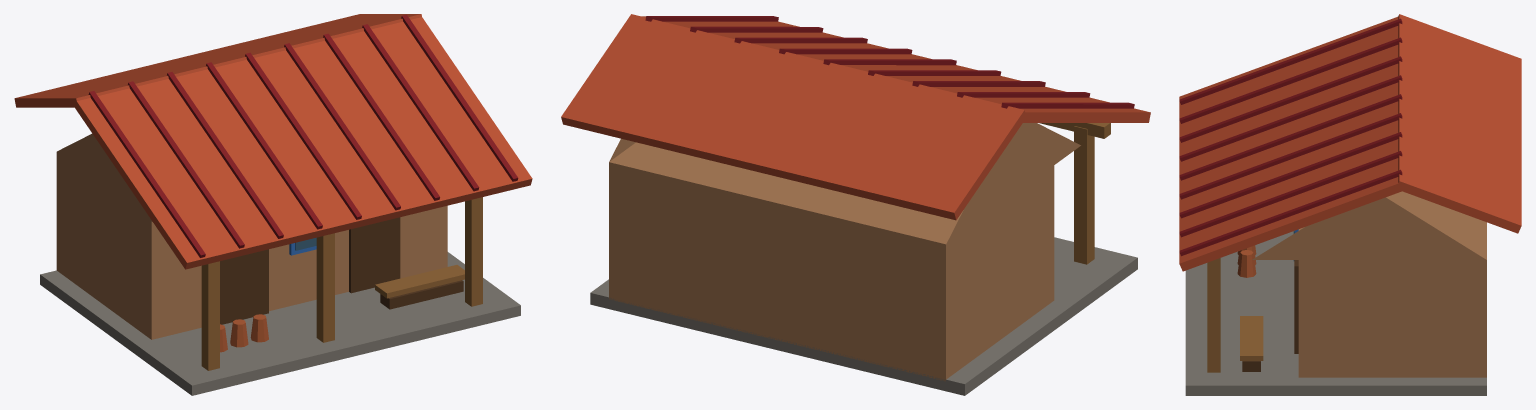
Rendered from Casa de adobe con corredor.fbx.
3 views of the same model, side by side, from view 1: azimuth 30°, elevation 25°; view 2: azimuth 150°, elevation 25°; view 3: azimuth 270°, elevation 25° (orthographic). The views are drawn at different scales.
Visible parts, largest first — view 1: Casa de adobe con corredor; view 2: Casa de adobe con corredor; view 3: Casa de adobe con corredor.
Part boxes in pixels (x1,y1,x2,y2): Casa de adobe con corredor: (14, 14, 532, 395); Casa de adobe con corredor: (561, 14, 1150, 395); Casa de adobe con corredor: (1179, 14, 1521, 395).
Size of the model in its own units: 4.2 by 2.59 by 3.64.
